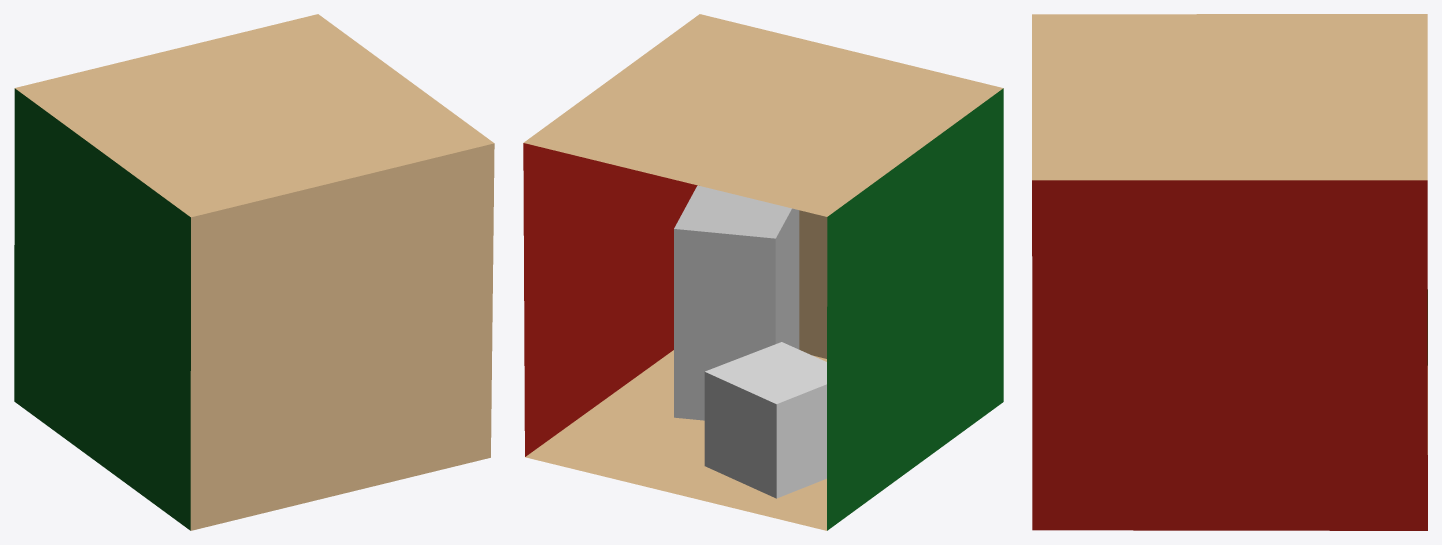
Rendered from cornell-box.fbx.
The picture shows the model from 3 angles, left to right: view 1: azimuth 30°, elevation 25°; view 2: azimuth 150°, elevation 25°; view 3: azimuth 270°, elevation 25°; orthographic projection. The views are drawn at different scales.
Parts seen in each view (by area): view 1: back wall, right wall, ceiling; view 2: right wall, ceiling, left wall, tall box, floor, short box, back wall; view 3: left wall, ceiling.
Part boxes in pixels (x1,y1,x2,y2): back wall: (190,143,494,530); right wall: (14,88,190,530); ceiling: (15,14,493,217); right wall: (827,88,1003,530); ceiling: (523,14,1003,216); left wall: (523,143,697,456); tall box: (674,185,799,420); floor: (525,350,826,530); short box: (704,342,826,498); back wall: (799,210,827,358); left wall: (1032,180,1427,530); ceiling: (1032,14,1427,180).
Size of the model in its own units: 5.56 by 5.49 by 5.6.
